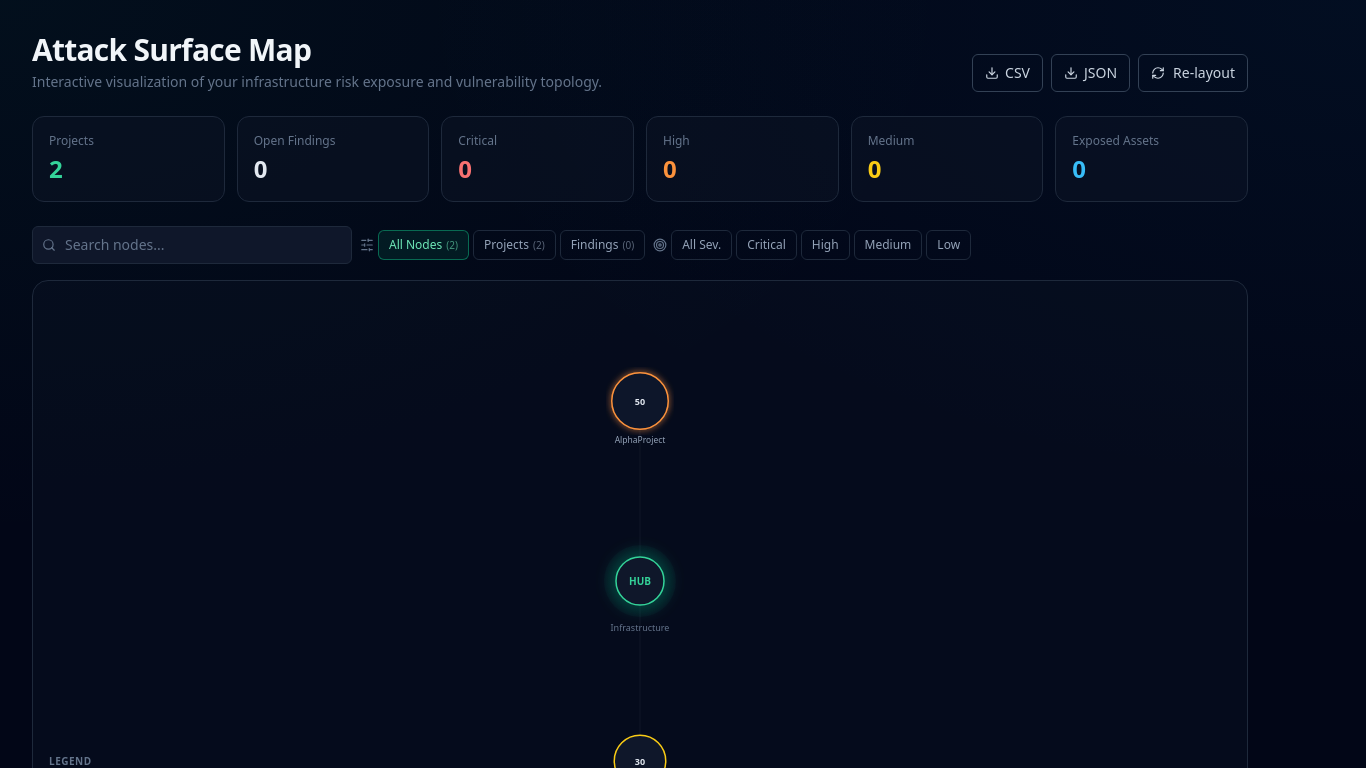
AttackSurfaceMap — search filter effects › clearing search hides visible badge
Type "AlphaProject" into the field with placeholder "Search nodes..." at coordinates (192, 245), box [32, 226, 352, 264]
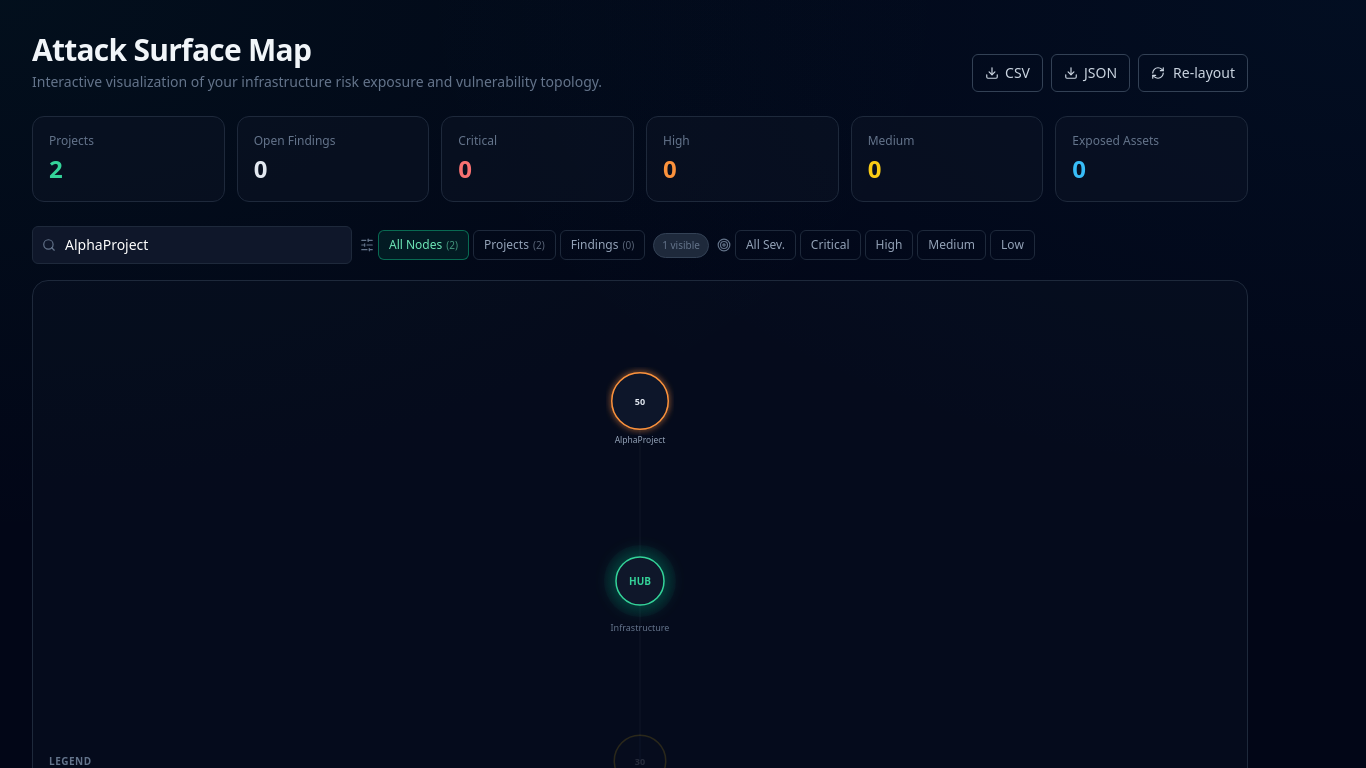
Expected: the text "1 visible" is shown, [653, 232, 709, 258]
Clear the field with placeholder "Search nodes..." at coordinates (192, 245), box [32, 226, 352, 264]
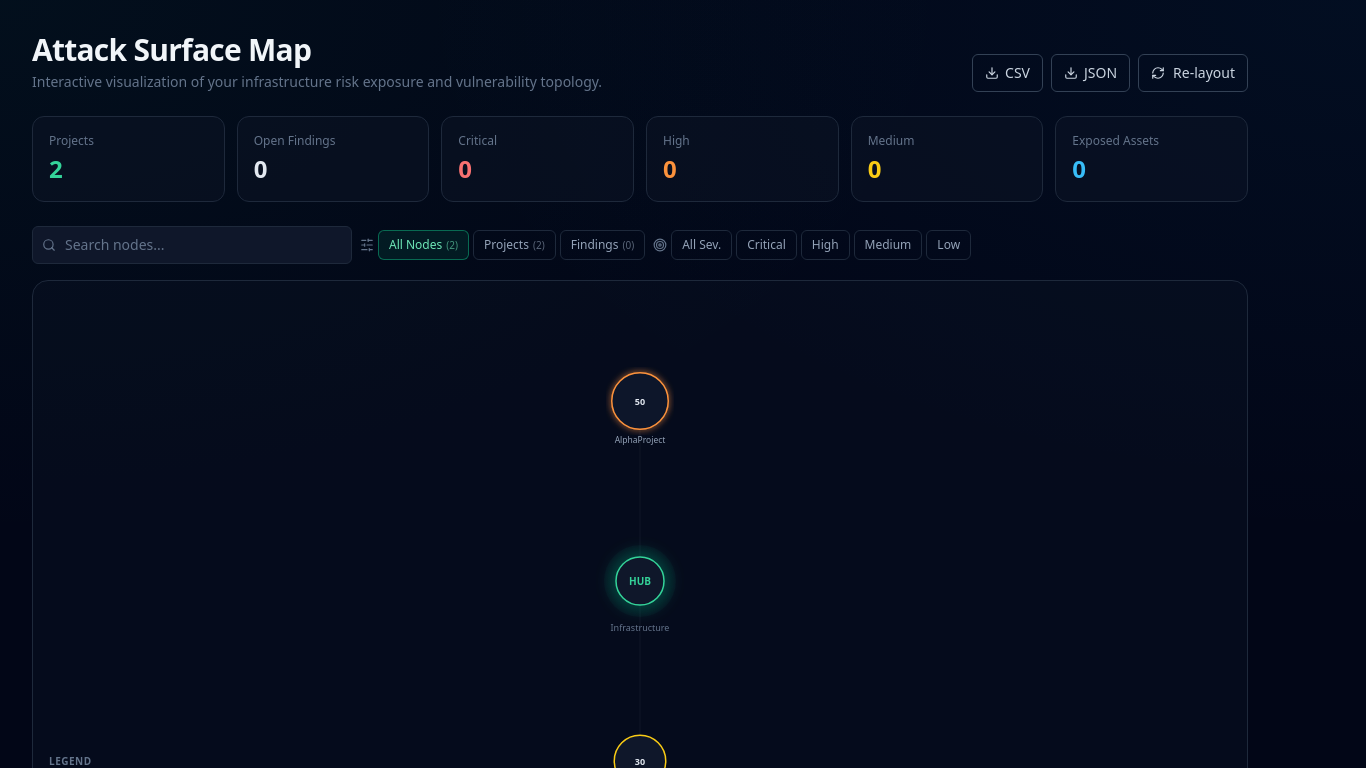
Expected: the text "visible" is gone
